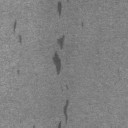red iron: (52, 50, 62, 75), (62, 100, 69, 123), (56, 34, 66, 50), (56, 0, 62, 16), (57, 121, 62, 128), (13, 20, 16, 30), (18, 34, 21, 43)
